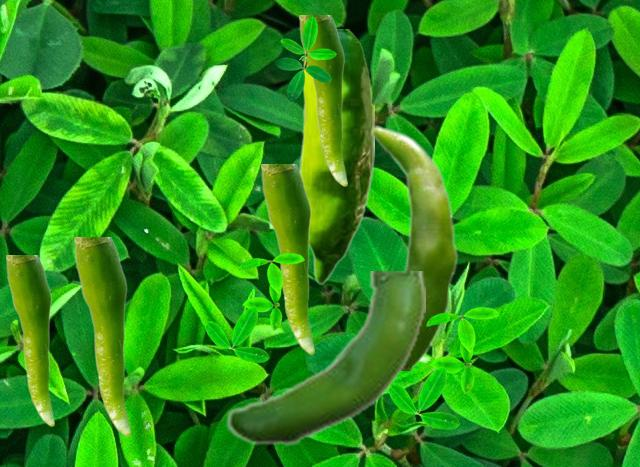green_chili: (225, 271, 424, 446), (369, 124, 458, 369), (298, 29, 373, 283), (74, 237, 129, 435), (261, 164, 313, 353), (299, 15, 346, 185), (6, 255, 53, 425)
